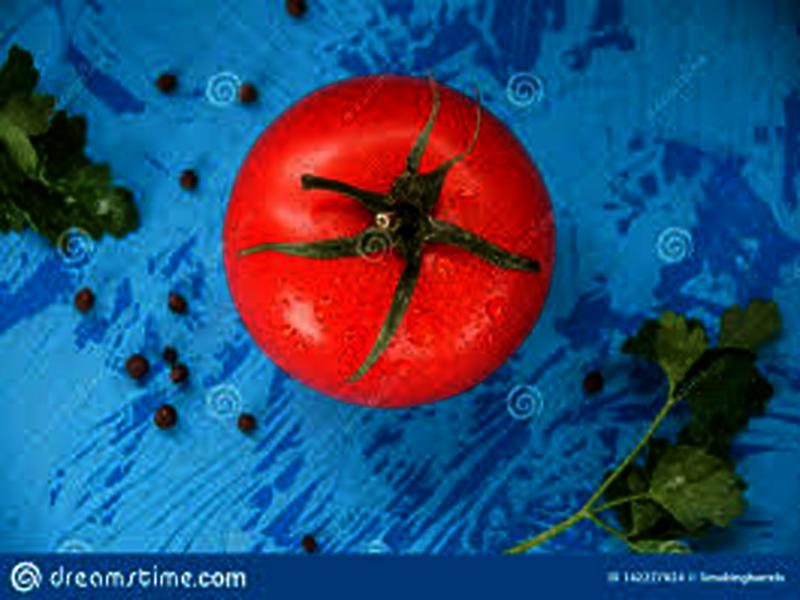Tomato: (223, 76, 555, 407)
